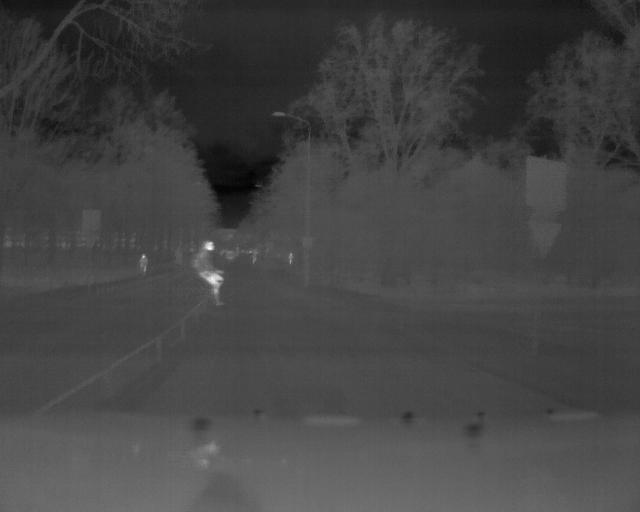person: (191, 238, 228, 306), (135, 244, 153, 282)
